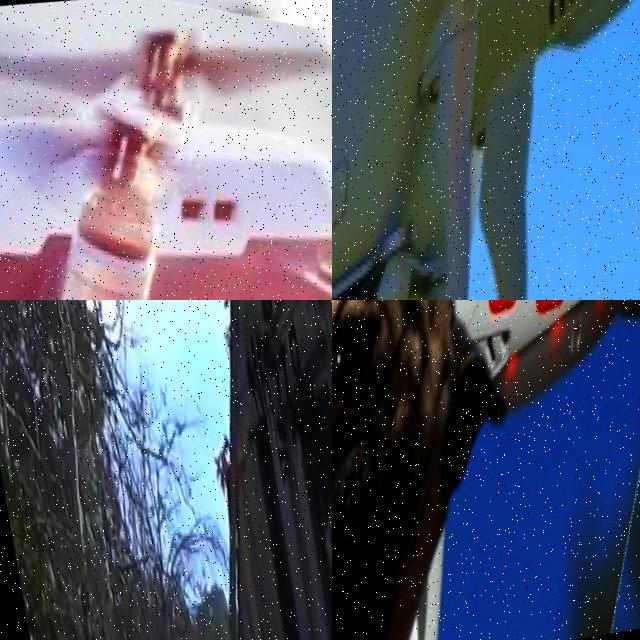0: (332, 0, 640, 300)
drone: (332, 300, 640, 640), (0, 0, 332, 300)
